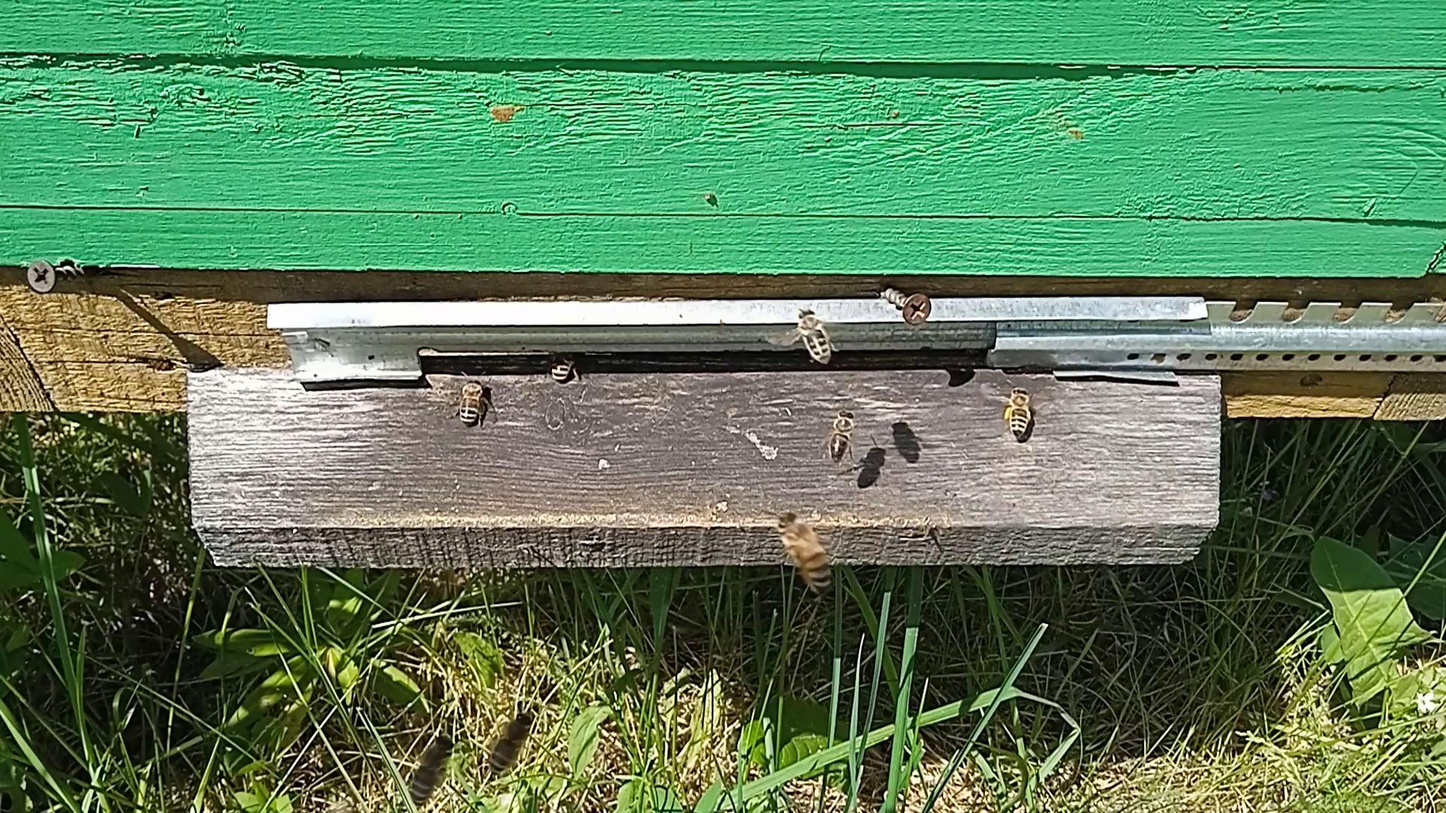worker-bee: (775, 512, 836, 594), (408, 734, 455, 804), (489, 712, 534, 773), (795, 308, 834, 364), (1002, 386, 1034, 438), (827, 408, 857, 462), (456, 378, 487, 426), (546, 353, 580, 382)
